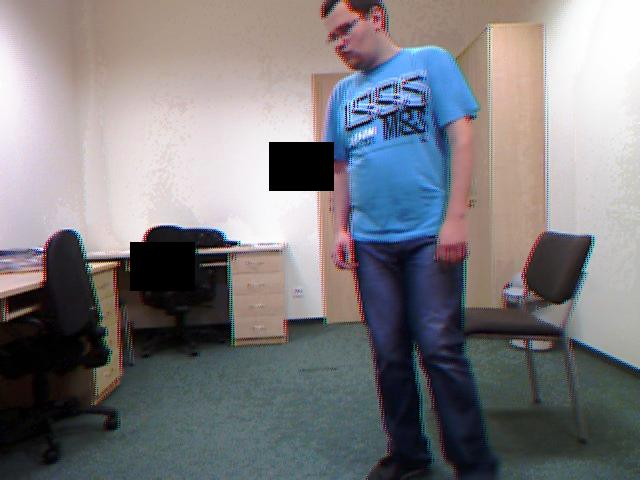standing: (303, 0, 516, 480)
